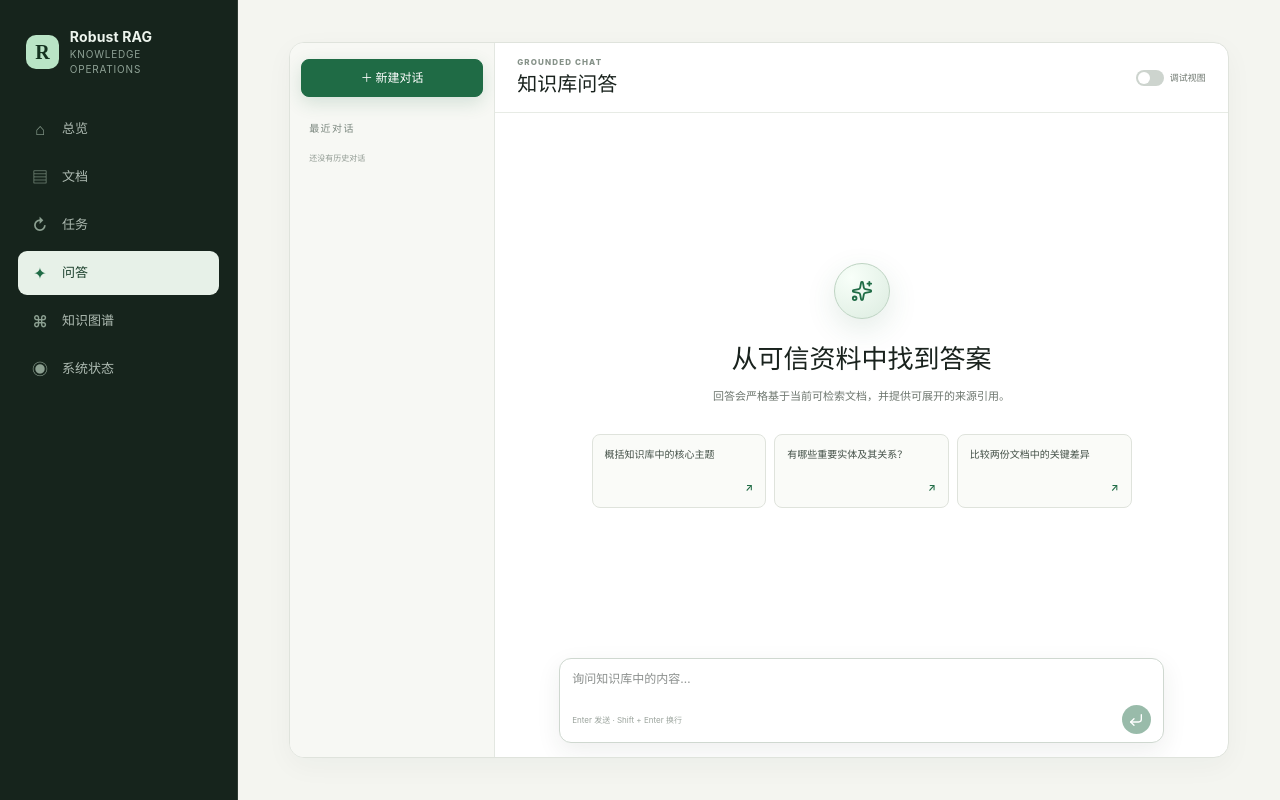
Test: stage 10 application › streams a grounded answer and exposes its source
Expected: the element that starts with "从可信资料中找到答案" is shown, [592,263,1132,508]
Type "测试问题" into the text box with placeholder "询问知识库中的内容…". click: (862, 682)
box: [572,670,1151,694]
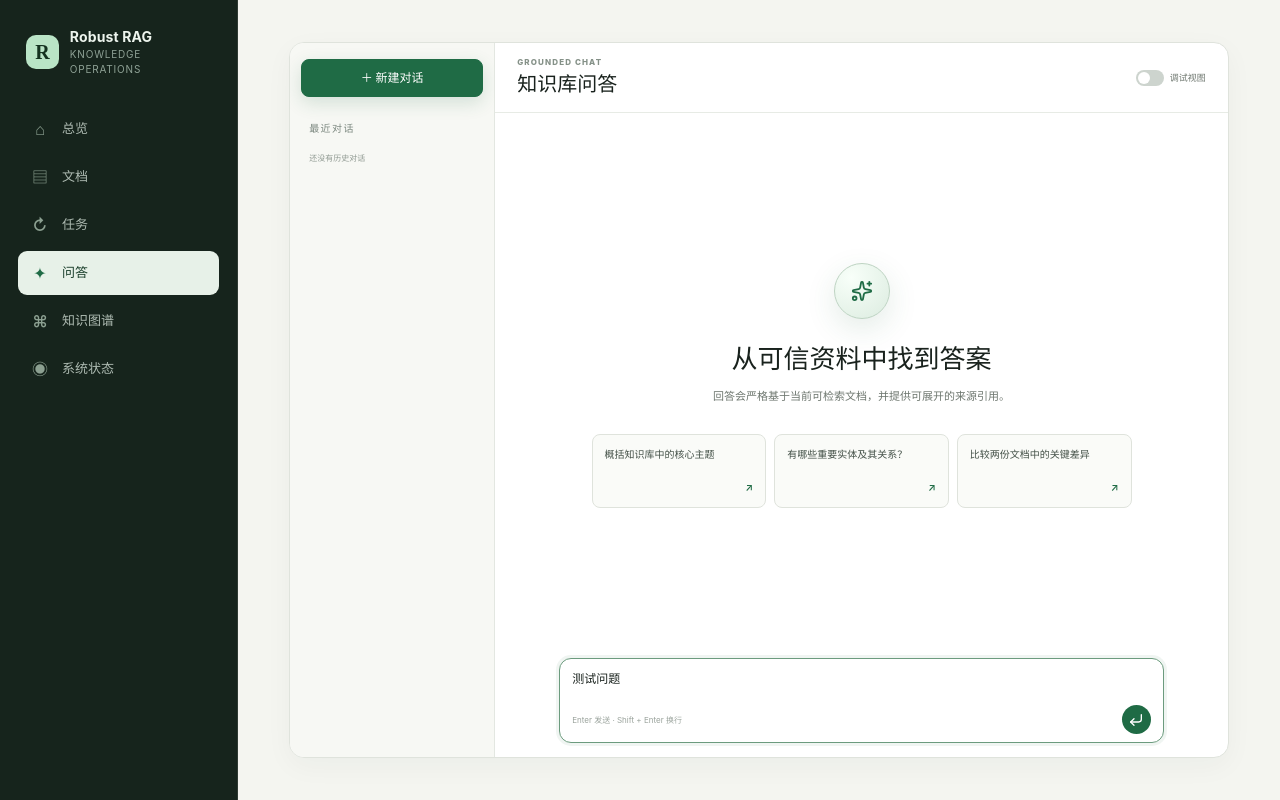
Click the button named "发送消息". click: (1136, 720)
box: [1122,705,1151,734]
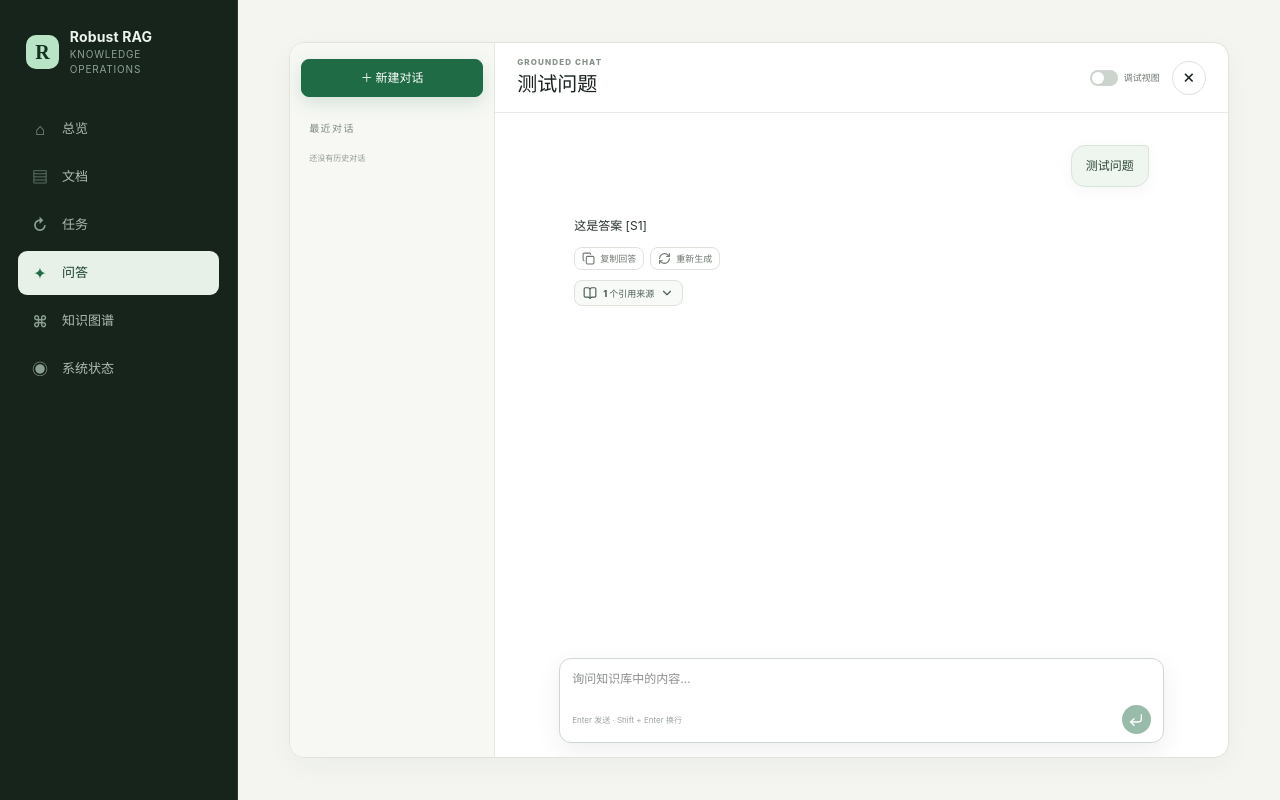
Now the text "这是答案 [S1]" is shown, box [574,218,647,233]
Now the button "复制回答" is shown, box [574,247,644,270]
Click the heading "1 个引用来源". click: (629, 294)
box: [574,280,683,306]
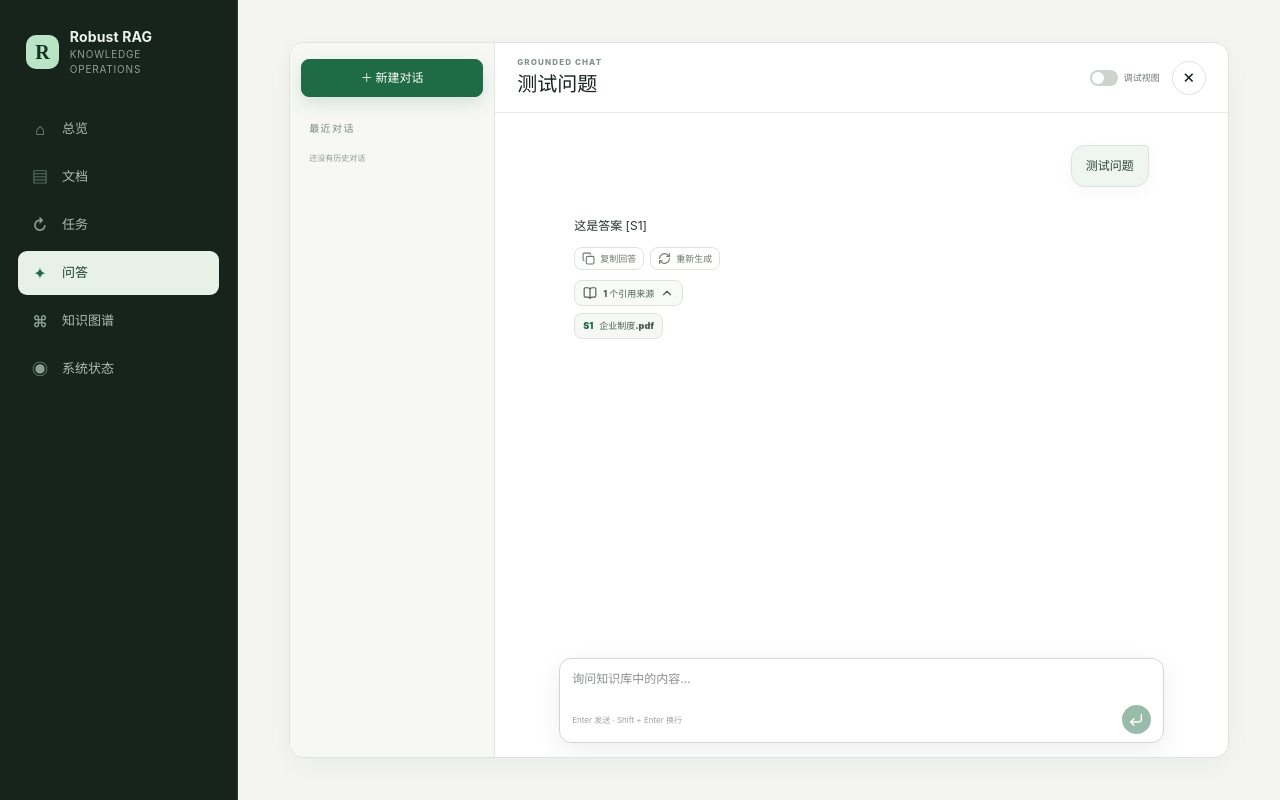
Click the button "S1 企业制度.pdf". click: (619, 326)
box: [574,314,663,339]
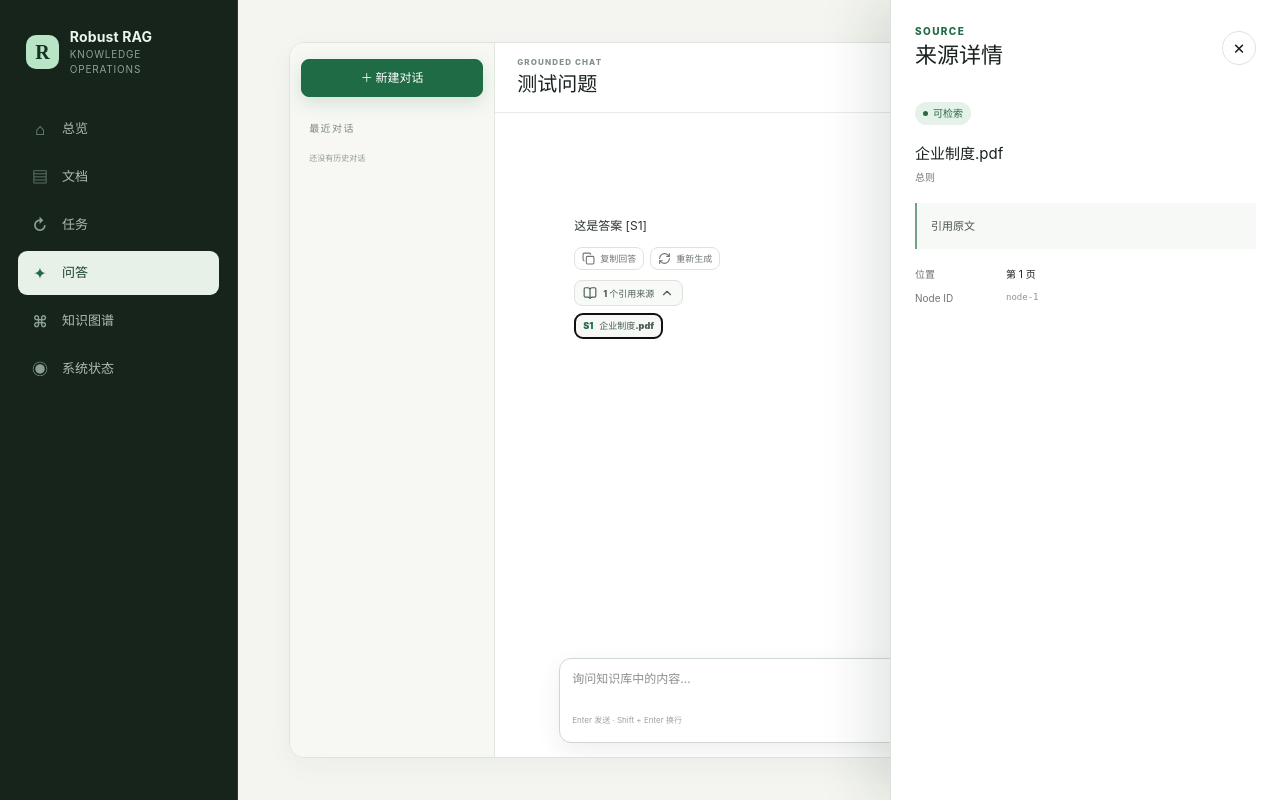
Now the heading "来源详情" is shown, box [915,39,1003,72]
Now the text "引用原文" is shown, box [915,202,1256,249]
